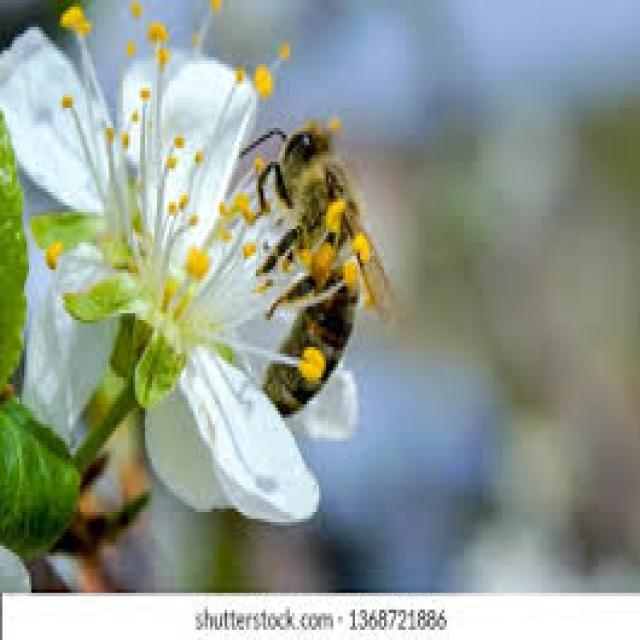Bees: (238, 118, 397, 426)
